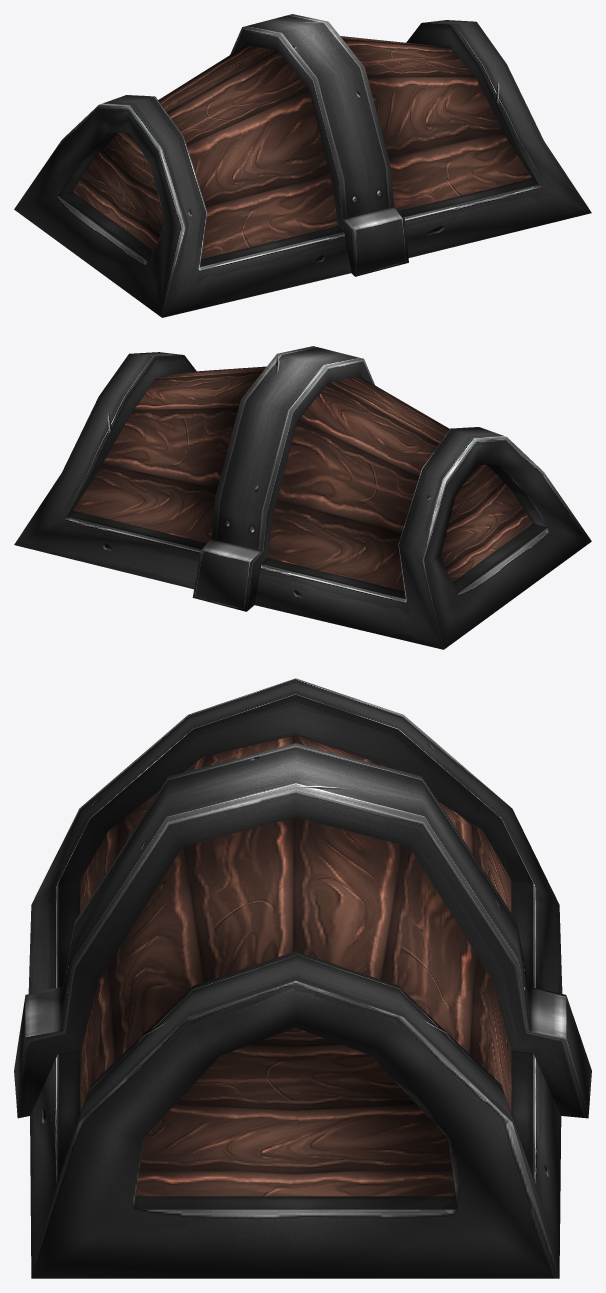
Rendered from wood2top.fbx.
3 renders of one model, top to bottom at view 1: azimuth 30°, elevation 25°; view 2: azimuth 150°, elevation 25°; view 3: azimuth 270°, elevation 25°, orthographic. The views are drawn at different scales.
Parts seen in each view (by area): view 1: Mesh; view 2: Mesh; view 3: Mesh.
Boxes of the visible parts, x1,y1,x2,y2 form: Mesh: (14, 14, 591, 317); Mesh: (14, 346, 591, 649); Mesh: (14, 678, 591, 1278).
Bounding box in the file's own units: 13.09 × 5.37 × 8.55.
